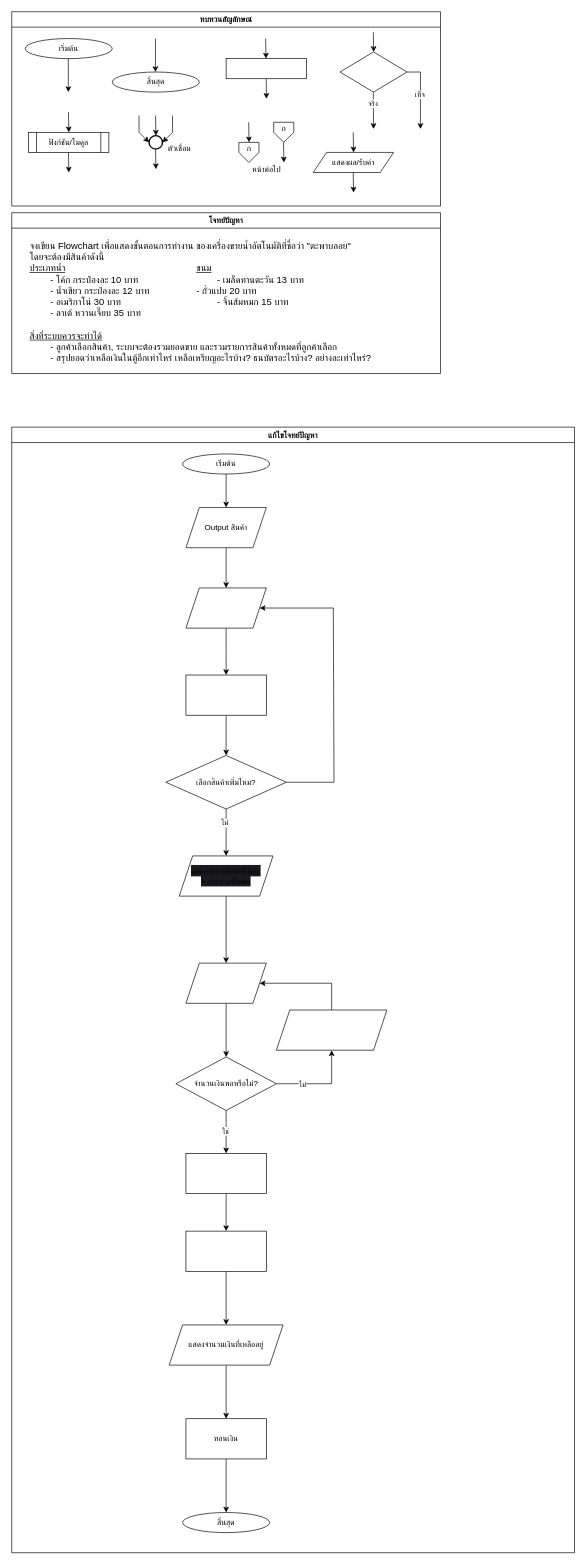
Some shapes in this 586 by 1564 pixel diagram are drawn without their labels. Here are the shapes that lost their labels. From the top down, the box of each, then its label:
(225, 58, 307, 79): กระบวนการ
(339, 51, 407, 92): ประโยคเงื่อนไข
(185, 587, 266, 628): Input สินค้า
(185, 674, 266, 715): เพิ่มสินค้าลงในรายการรวม + รวมราคาสินค้า
(185, 962, 266, 1003): Input เงิน
(276, 1009, 387, 1050): Output "จำนวนเงินไม่พอ กรุณาใส่เงินเพิ่ม"
(185, 1153, 266, 1194): ออกสินค้า
(185, 1230, 266, 1271): คำนวนเงินคงเหลือ = จำนวนเงินที่มี - ราคาสินค้ารวม
